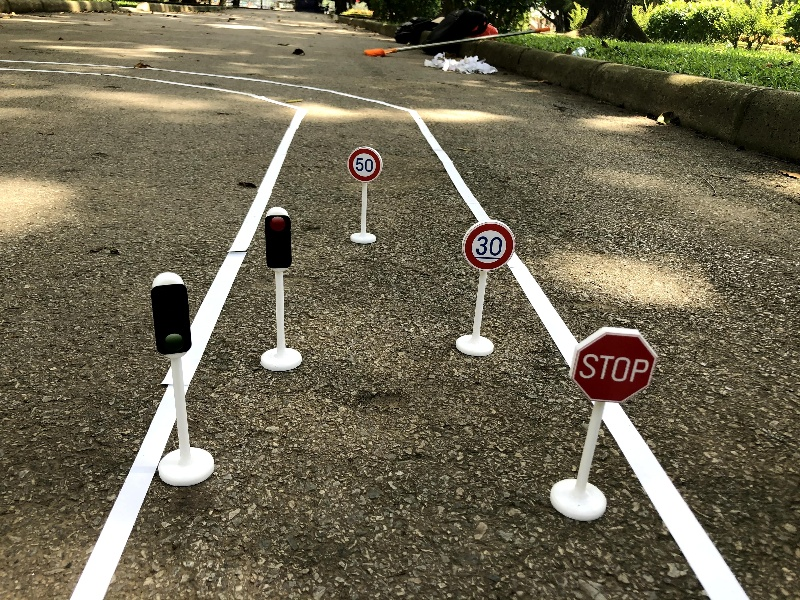Bien_bao_30: (447, 217, 519, 364)
Bien_bao_50: (337, 143, 393, 251)
Den_Do: (244, 204, 313, 384)
Den_Xanh: (122, 272, 218, 495)
Stop: (550, 319, 661, 532)
